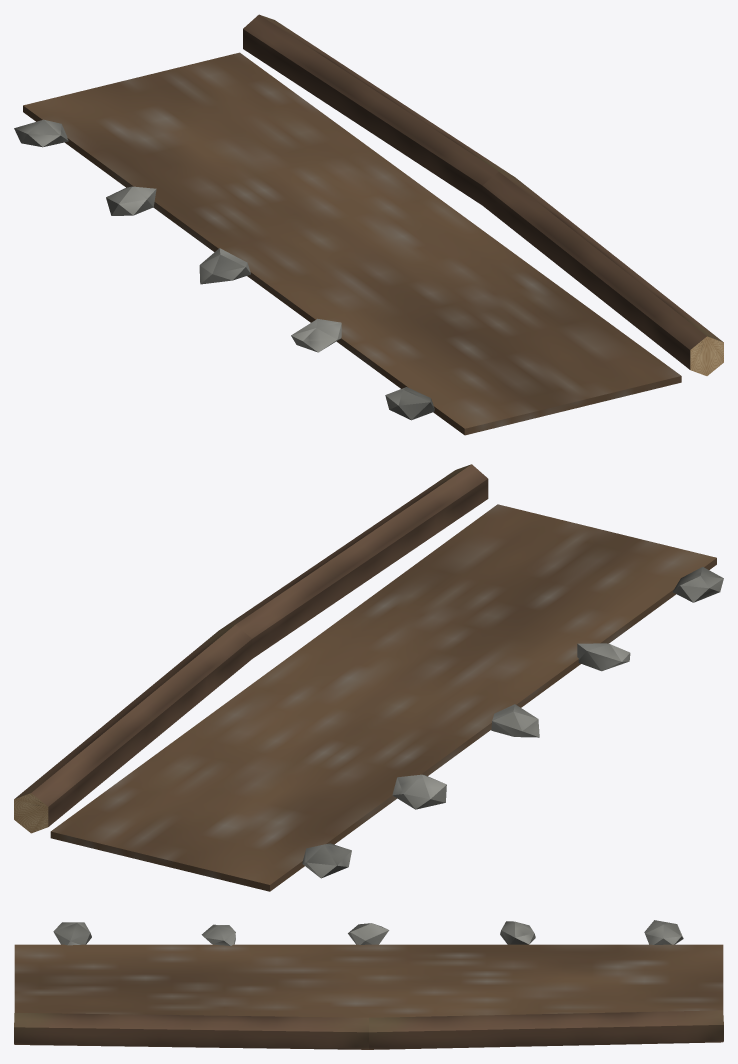
File: SM_Trail_Segment01.fbx
The picture shows the model from 3 angles, top to bottom: view 1: azimuth 30°, elevation 25°; view 2: azimuth 150°, elevation 25°; view 3: azimuth 270°, elevation 25°; orthographic projection. The views are drawn at different scales.
Parts seen in each view (by area): view 1: SM_Trail_Segment01; view 2: SM_Trail_Segment01; view 3: SM_Trail_Segment01.
Part boxes in pixels (x1,y1,x2,y2): SM_Trail_Segment01: [14, 14, 723, 435]; SM_Trail_Segment01: [14, 464, 723, 891]; SM_Trail_Segment01: [14, 920, 723, 1049].
Size of the model in its own units: 4.96 by 0.6572 by 12.02.
Materials: 1 (1 with a texture image).
